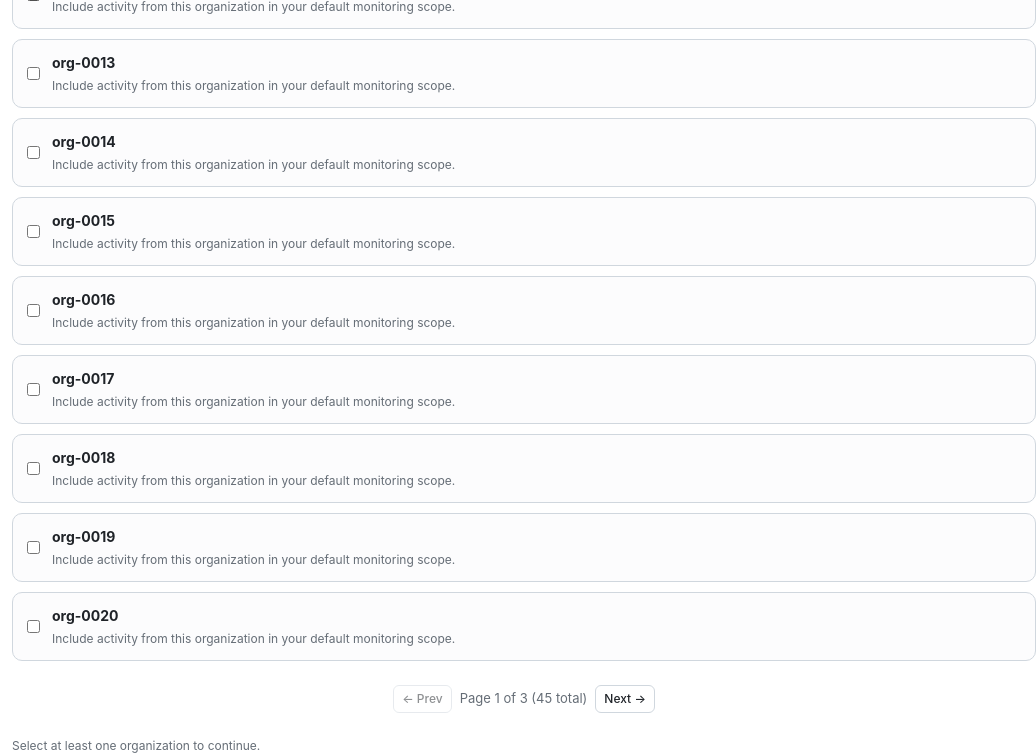
Scenario: PaginatedOrgList › navigates between pages
This screenshot has width=1036, height=755.
(page scrolled)
Click the button "Next →". click: (625, 699)
box: [595, 685, 655, 713]
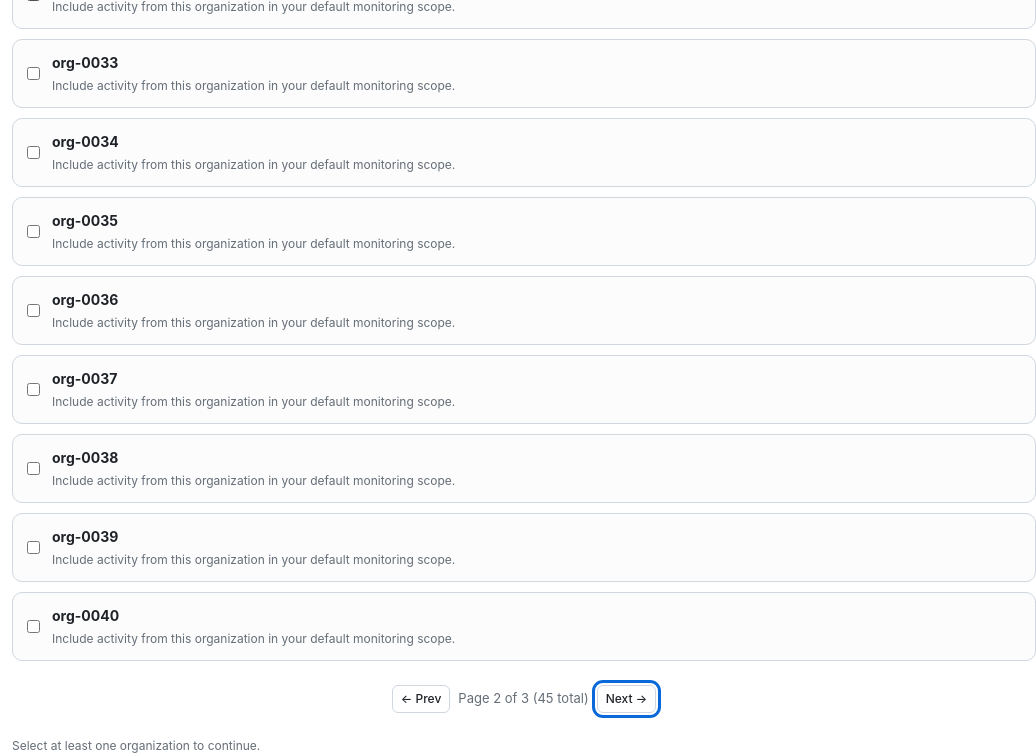
Check: the checkbox labelled "org-0040" is shown, box [27, 620, 40, 633]
Check: the text "Page 2 of 3 (45 total)" is shown, box [458, 689, 589, 709]
